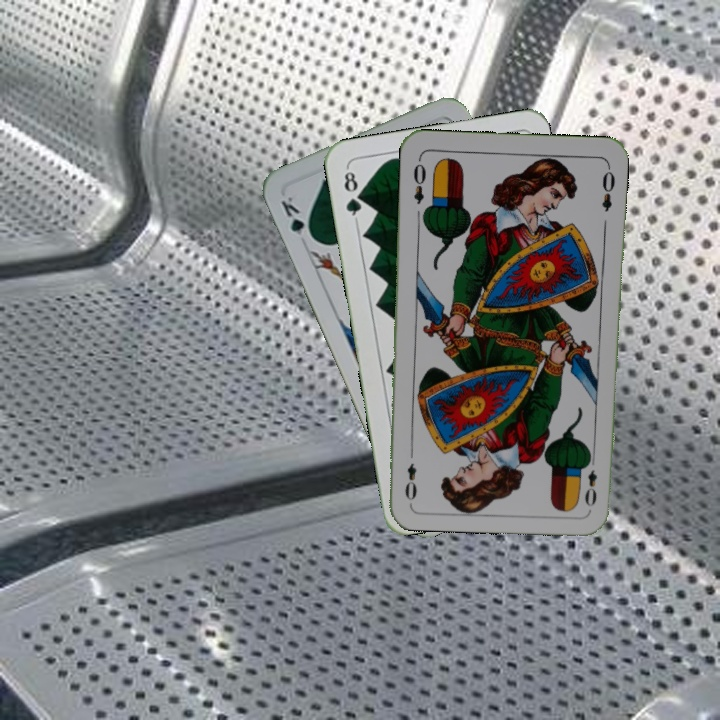EO: (580, 451, 600, 509), (409, 154, 428, 207)
G8: (339, 164, 365, 223)
GK: (276, 192, 316, 244)
